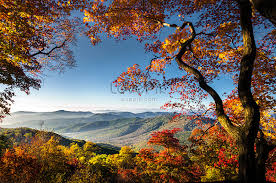mountain: (8, 109, 271, 180), (23, 109, 210, 138)
tree: (134, 4, 273, 183), (1, 1, 71, 109)
